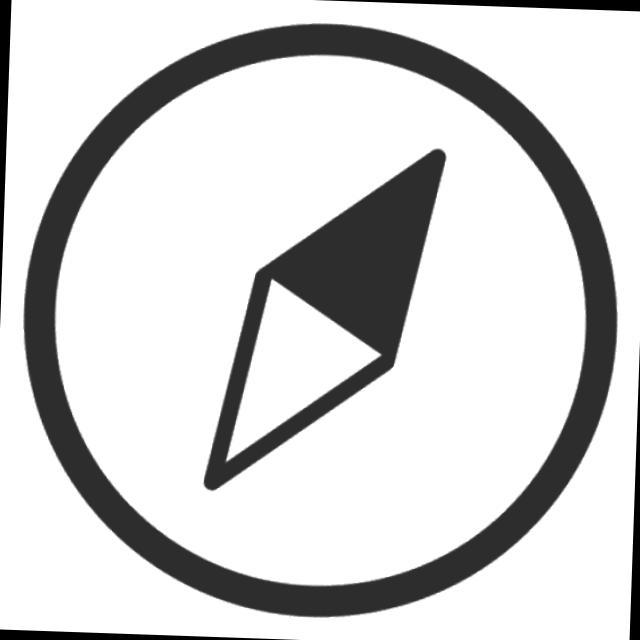compass: (2, 4, 640, 640)
